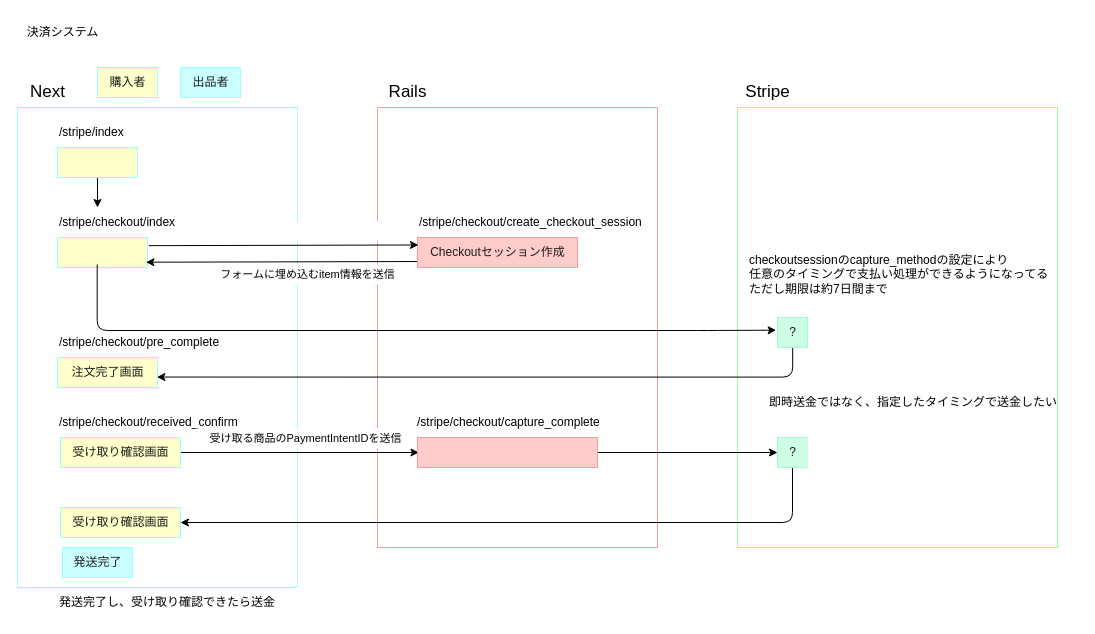
Image size: 1095x634. Some labels were removed from this diagram. Here are the shapes that lost their labels. From the top down, the centre of each, then its label:
the point at 97,162: 購入ボタン
the point at 310,231: Fetchでitem情報を取得
the point at 102,252: 決済フォーム
the point at 507,452: 売り上げをキャプチャーする
the point at 902,457: 購入者のカードから引き落とし、 出品者の口座に売上が入金される
